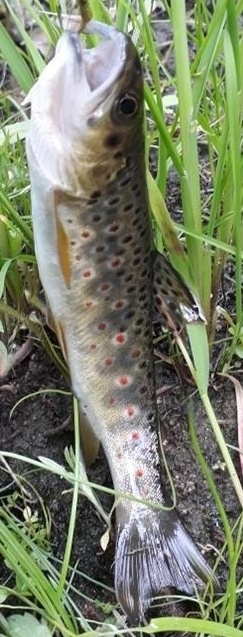Salmo trutta subsp. fario: (20, 20, 223, 617)
